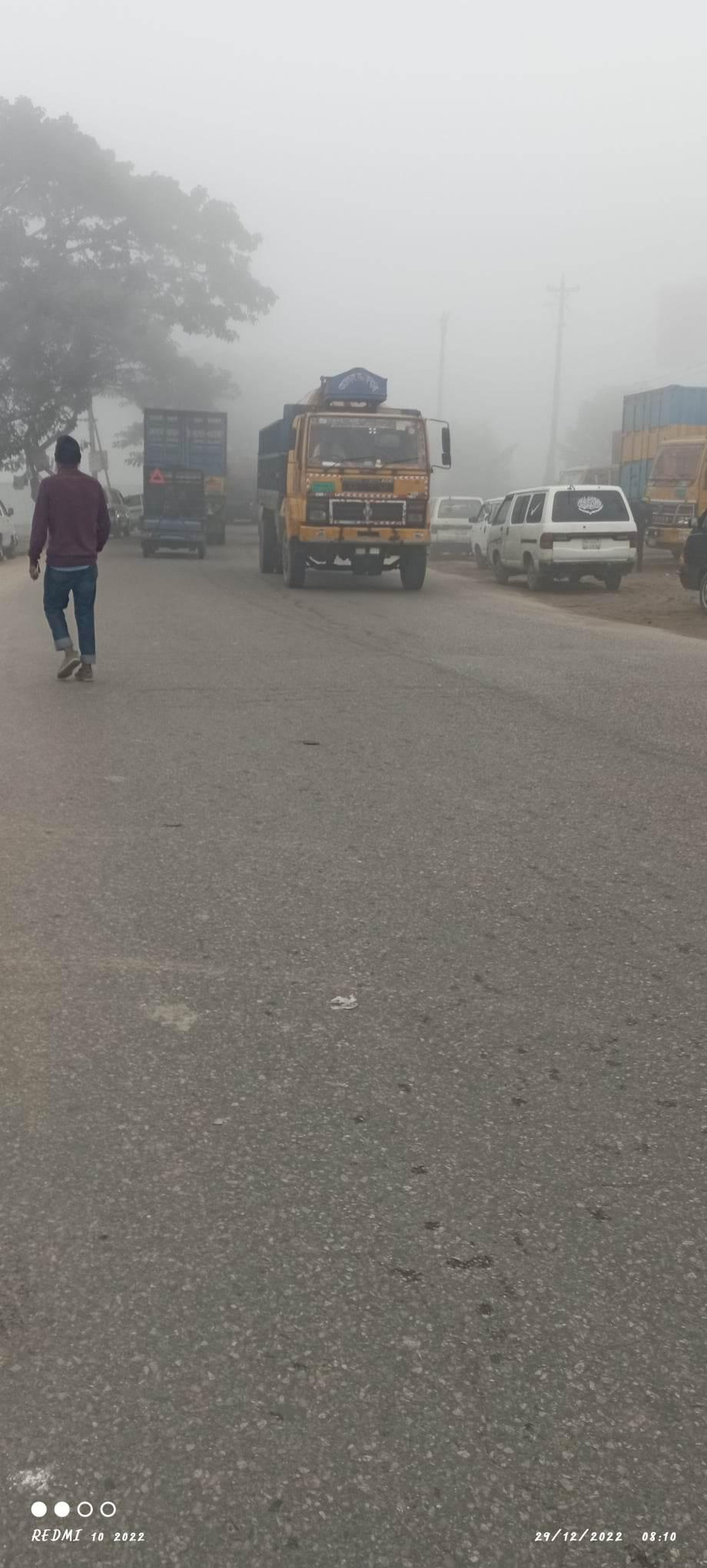Car: (482, 473, 652, 607)
Truck: (247, 360, 469, 620), (121, 385, 244, 553), (118, 455, 231, 576)
